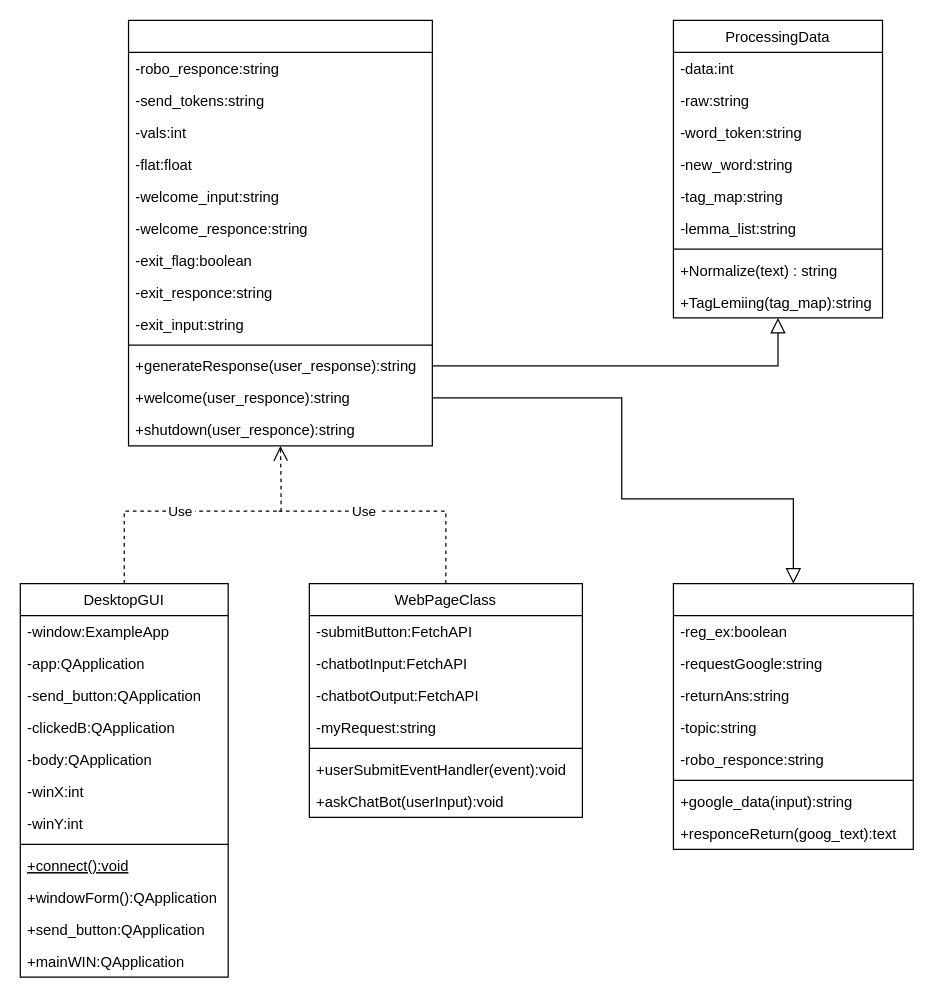
This 934x998 diagram has some shape labels left out. Here are the shapes that lost their labels. From the top down, the box of each, then its label:
(127, 19, 432, 446): BotResponce
(672, 582, 913, 849): GoogleRequest
